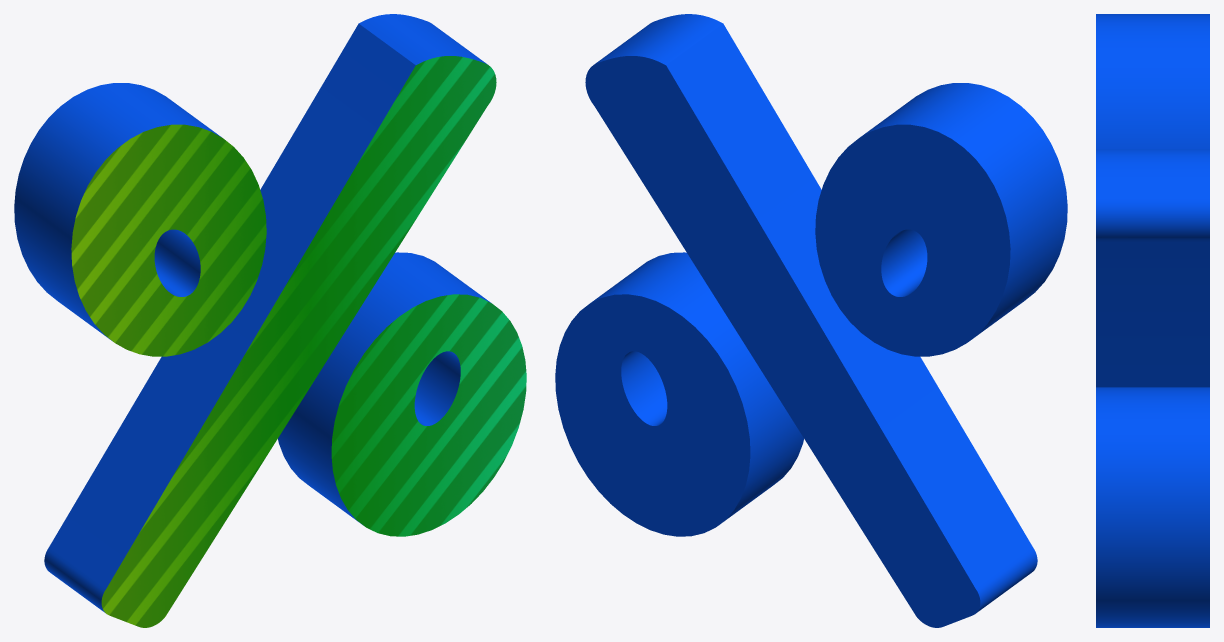
File: Interest.FBX
3 renders of one model, left to right at view 1: azimuth 30°, elevation 25°; view 2: azimuth 150°, elevation 25°; view 3: azimuth 270°, elevation 25°, orthographic.
Visible parts, largest first — view 1: Interest; view 2: Interest; view 3: Interest.
Boxes of the visible parts, x1,y1,x2,y2 form: Interest: (14, 14, 526, 627); Interest: (555, 14, 1067, 627); Interest: (1096, 14, 1209, 627).
Bounding box in the file's own units: 91.95 × 96.51 × 20.
Materials: 2 (1 with a texture image).
